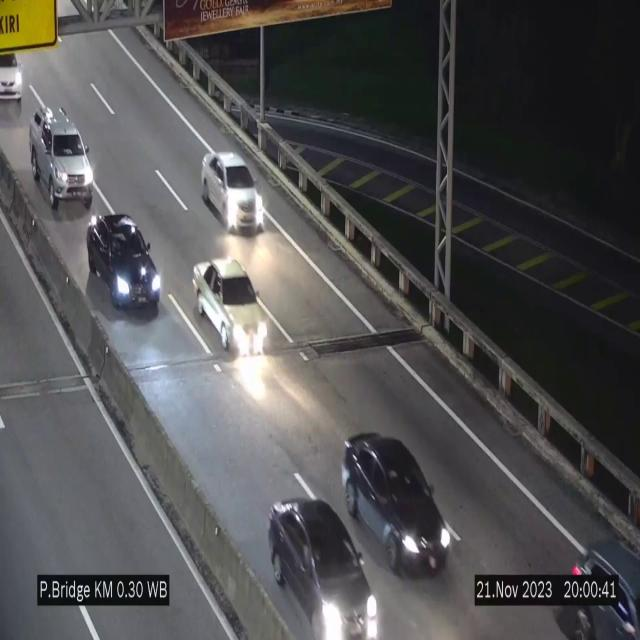Car: (268, 498, 380, 640), (342, 432, 452, 574), (555, 520, 640, 640), (87, 213, 162, 312), (195, 259, 269, 353), (29, 106, 93, 211), (201, 151, 265, 231), (0, 42, 30, 108)
